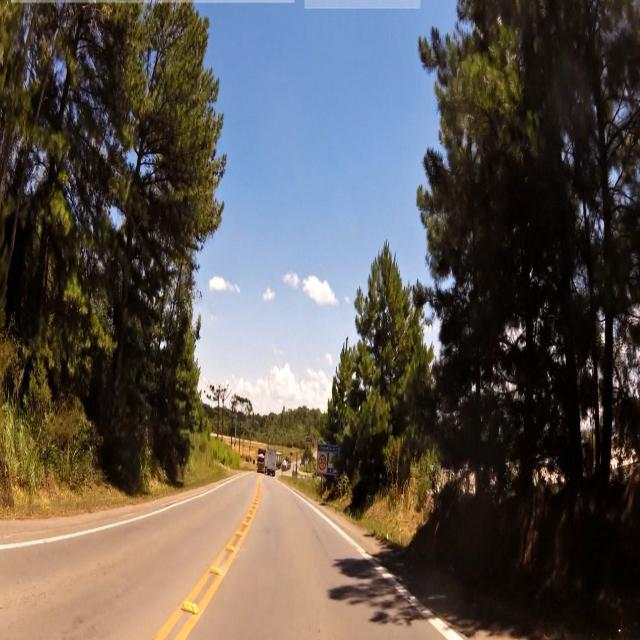R-19: (319, 453, 327, 470)
